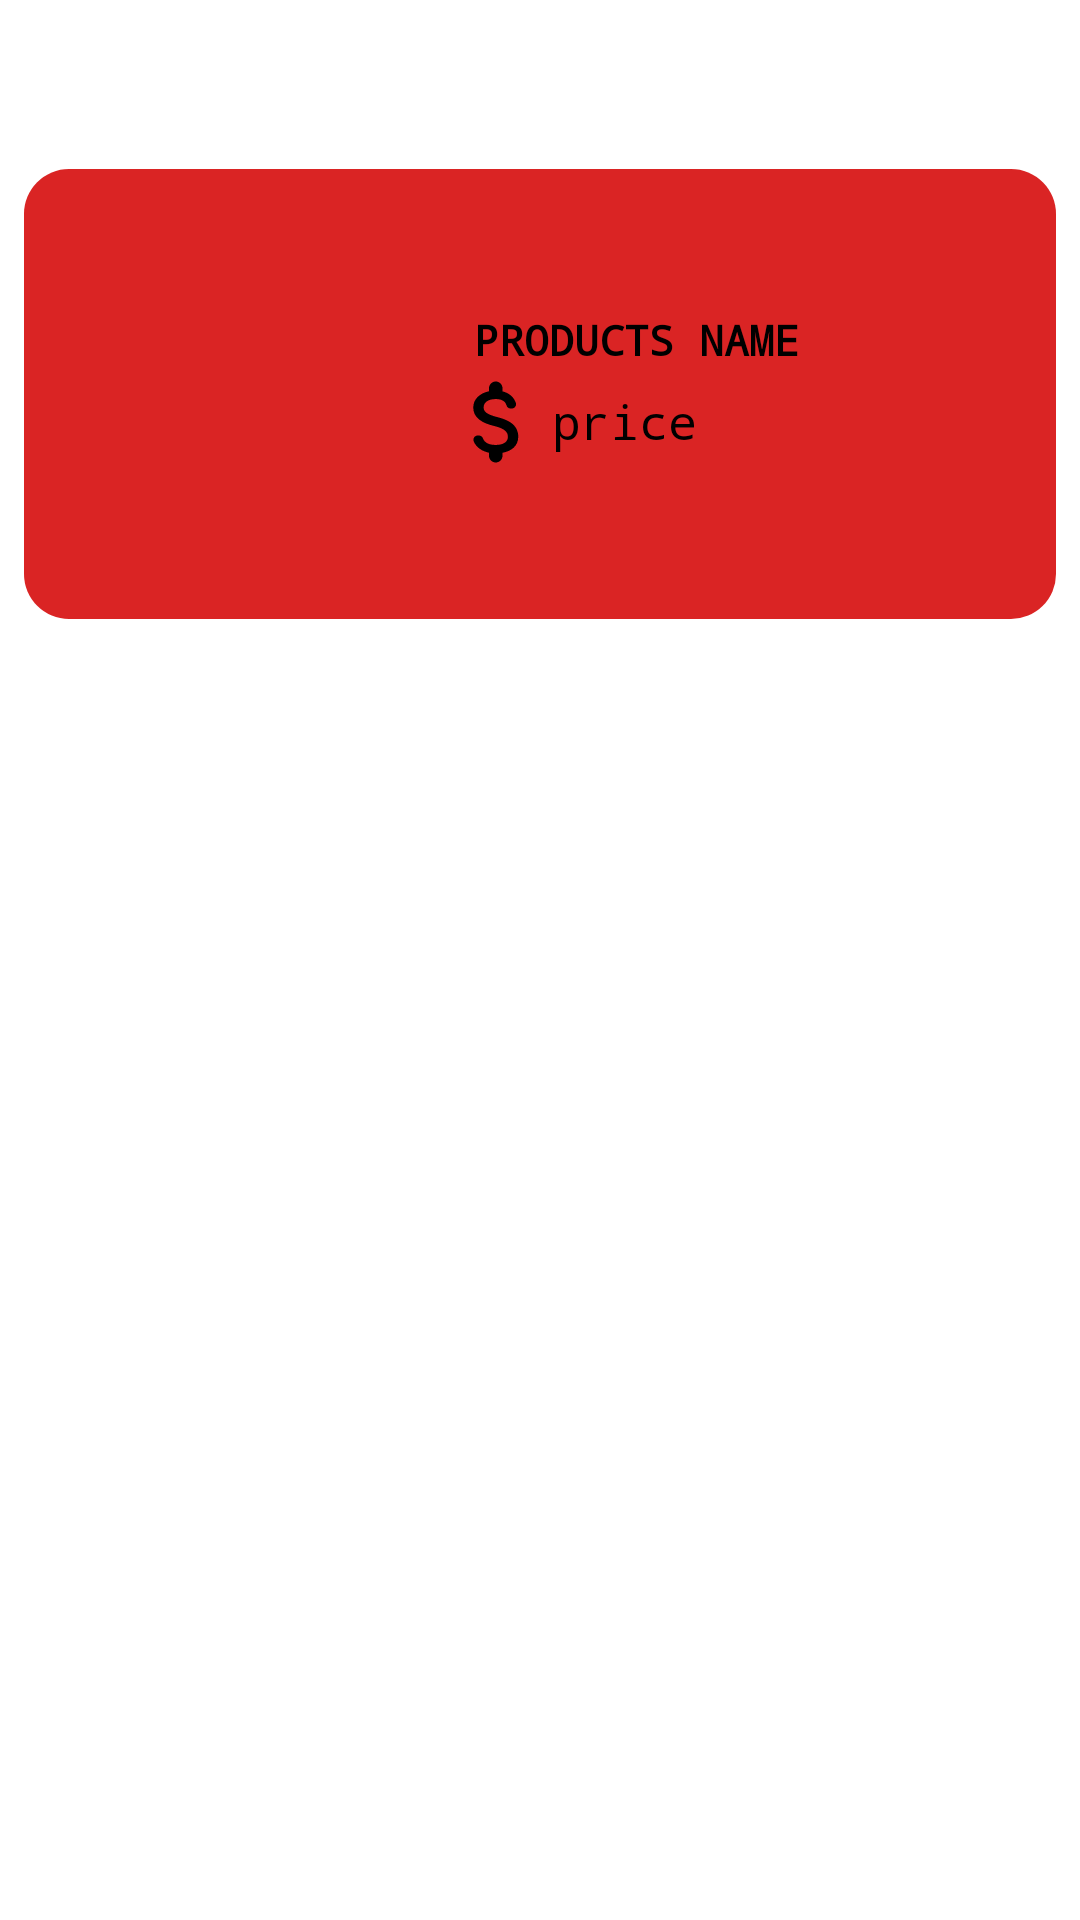

Screen size 1080 x 1920. Icon name, then its center in pixels as point (x, y):
dollar: point (496, 422)
